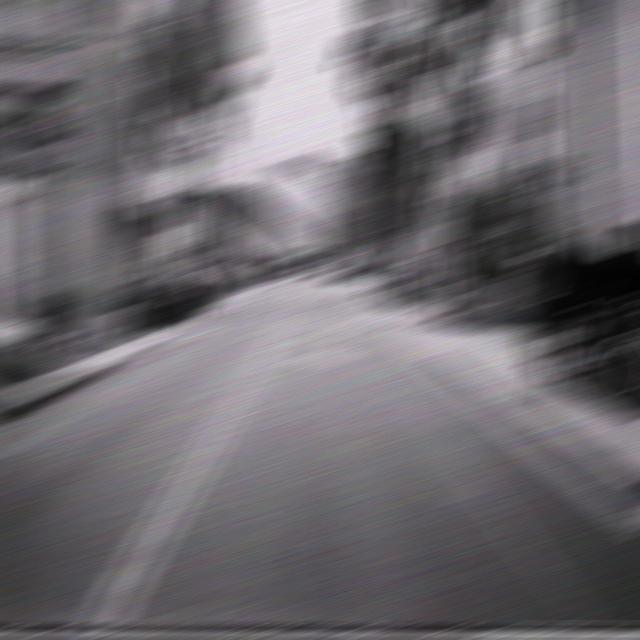pedestrianCrossing: (426, 176, 463, 219)
